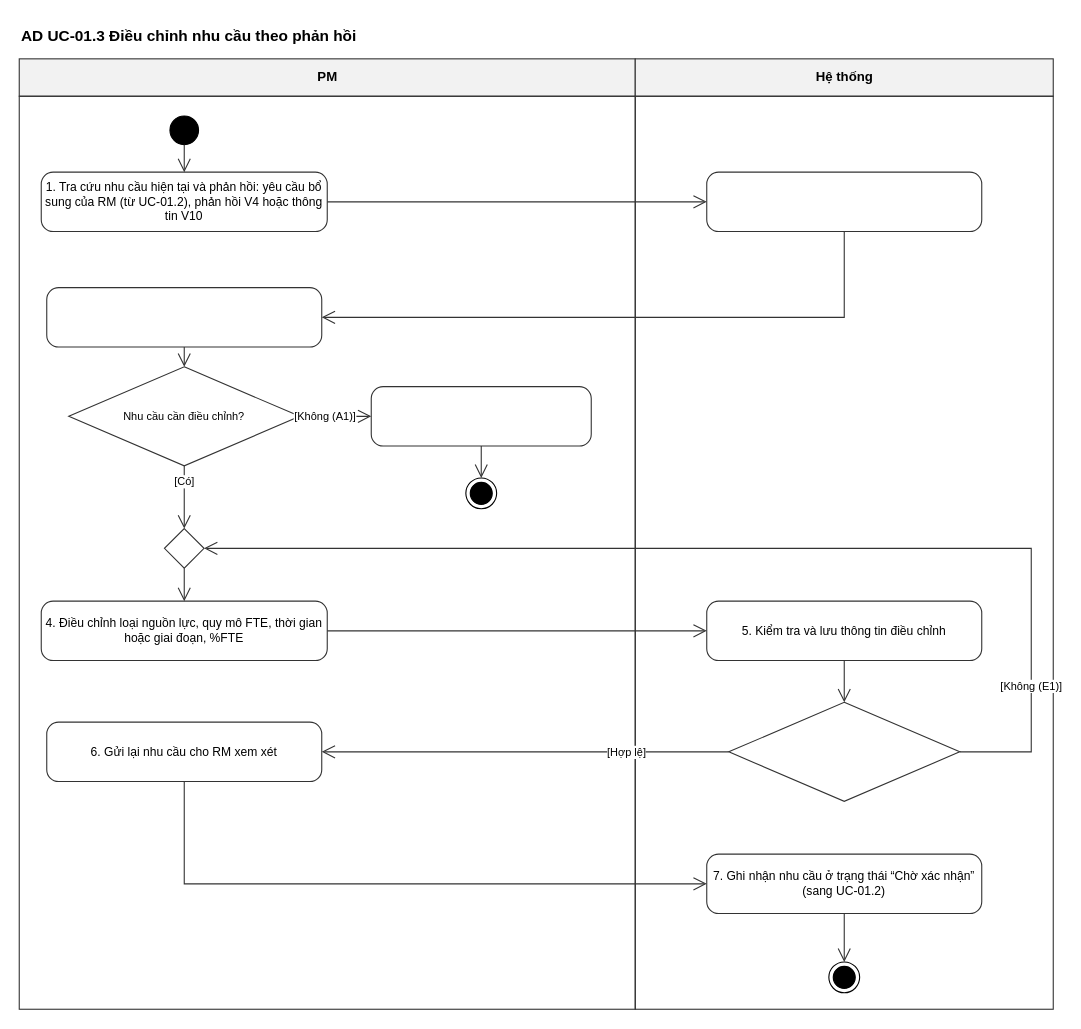
The diagram is 1081 pixels wide and 1029 high, and some of its shapes have lost their labels. Here are the shapes that lost their labels. From the top down, the centre of each, then its label:
At pixel 844 201: "2. Hiển thị nhu cầu hiện tại và phản hồi đã ghi nhận".
At pixel 184 317: "3. Xem xét phản hồi, xác định nội dung cần điều chỉnh".
At pixel 480 416: "A1. Giữ nguyên nhu cầu hiện tại".
At pixel 844 751: "Thông tin hợp lệ?".
